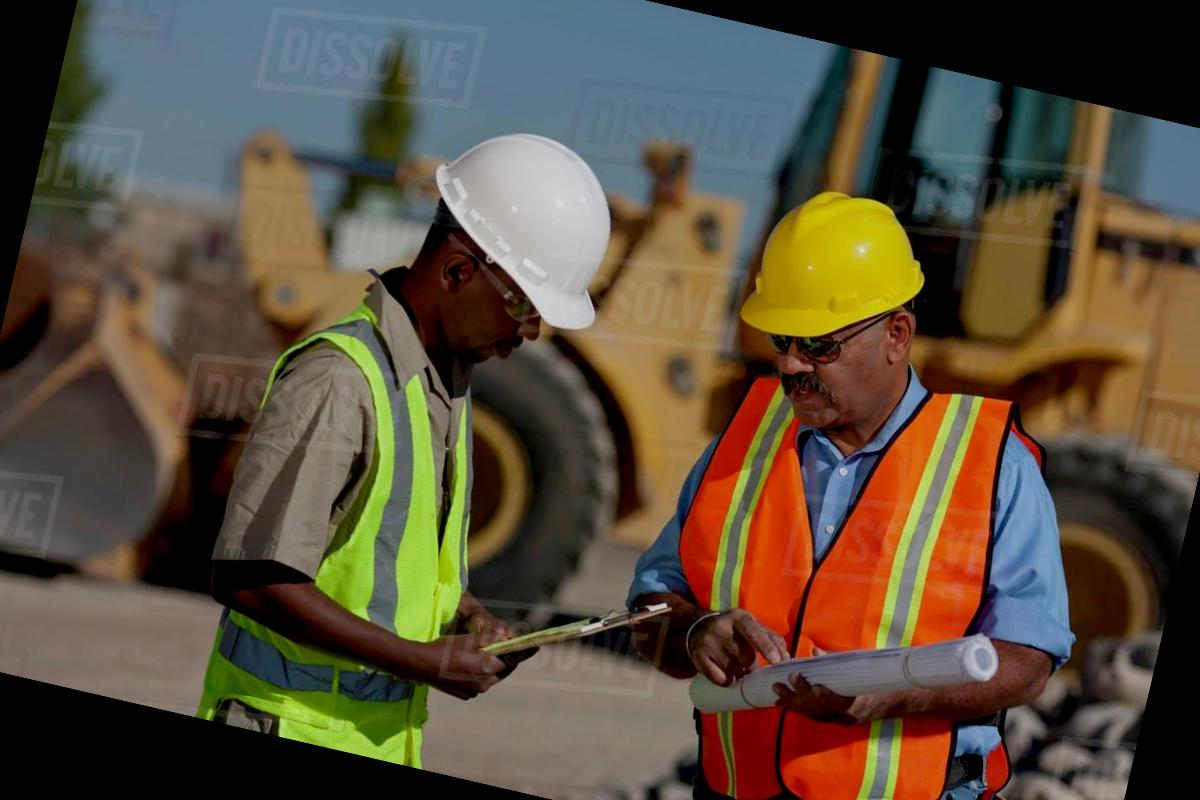helmet: (398, 104, 652, 344), (730, 174, 950, 374)
person: (574, 146, 1172, 800), (169, 73, 652, 782)
